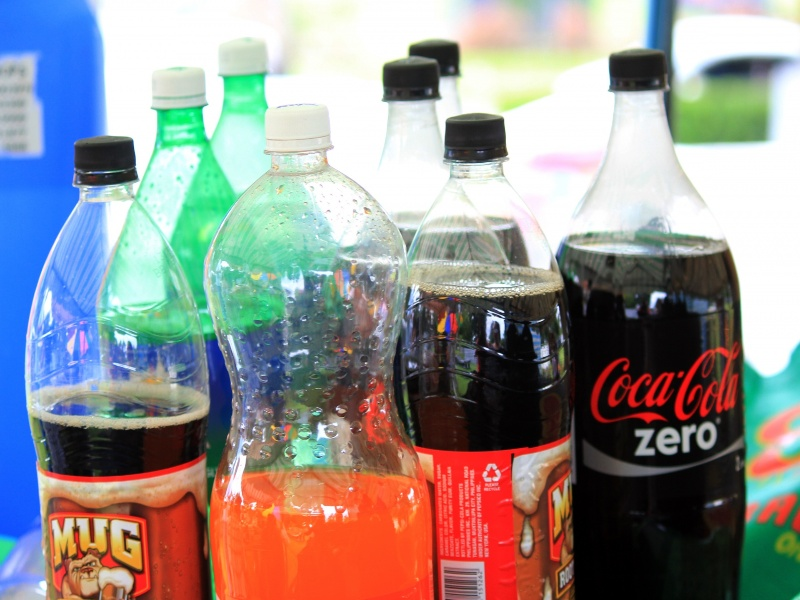Plastic bottle: (182, 99, 441, 600), (548, 27, 759, 599), (371, 97, 585, 599), (2, 140, 222, 600), (87, 37, 261, 467), (336, 35, 455, 243), (185, 10, 285, 190)
